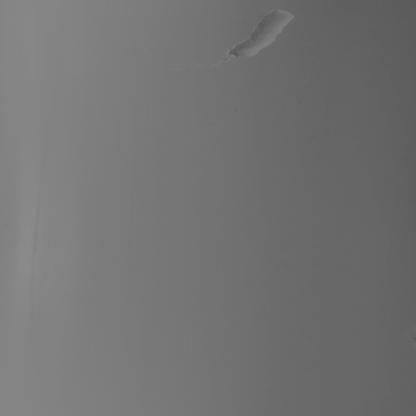sunshang: (223, 9, 294, 69)
